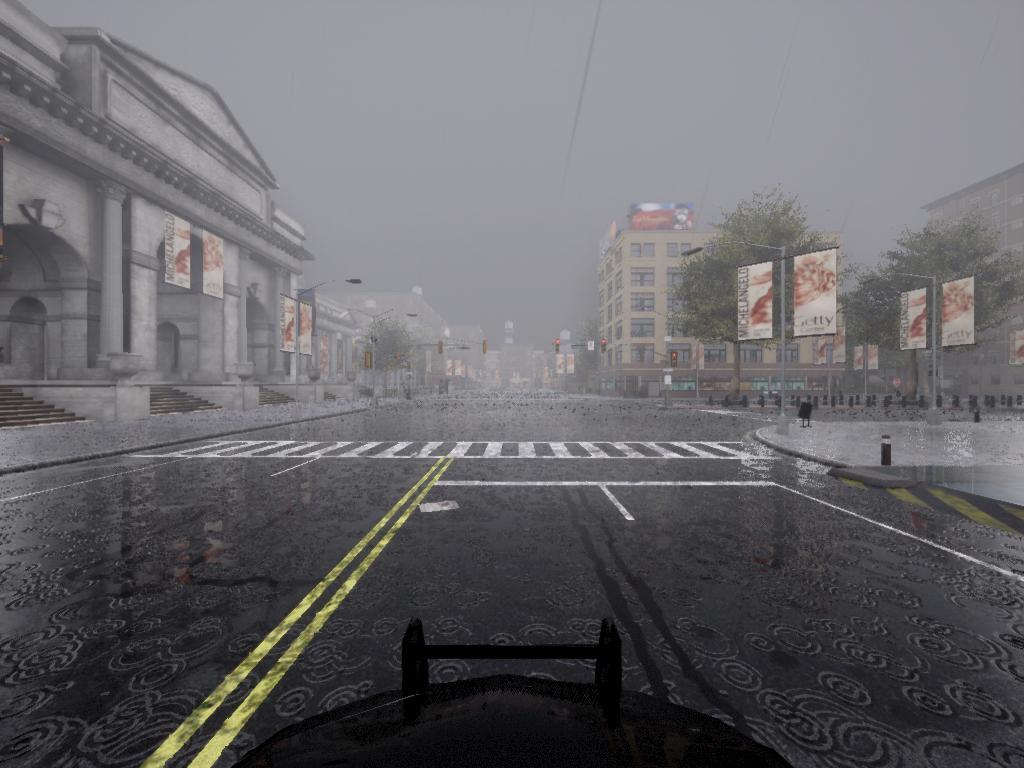traffic_light: (365, 353, 373, 370), (437, 340, 444, 355), (600, 341, 607, 354), (672, 352, 678, 367), (556, 339, 562, 354), (484, 340, 488, 355)
